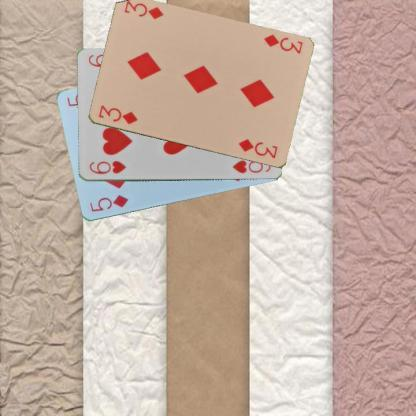3d: (96, 102, 140, 126), (260, 32, 304, 55)
5d: (87, 192, 130, 214)
6h: (87, 158, 127, 176)
